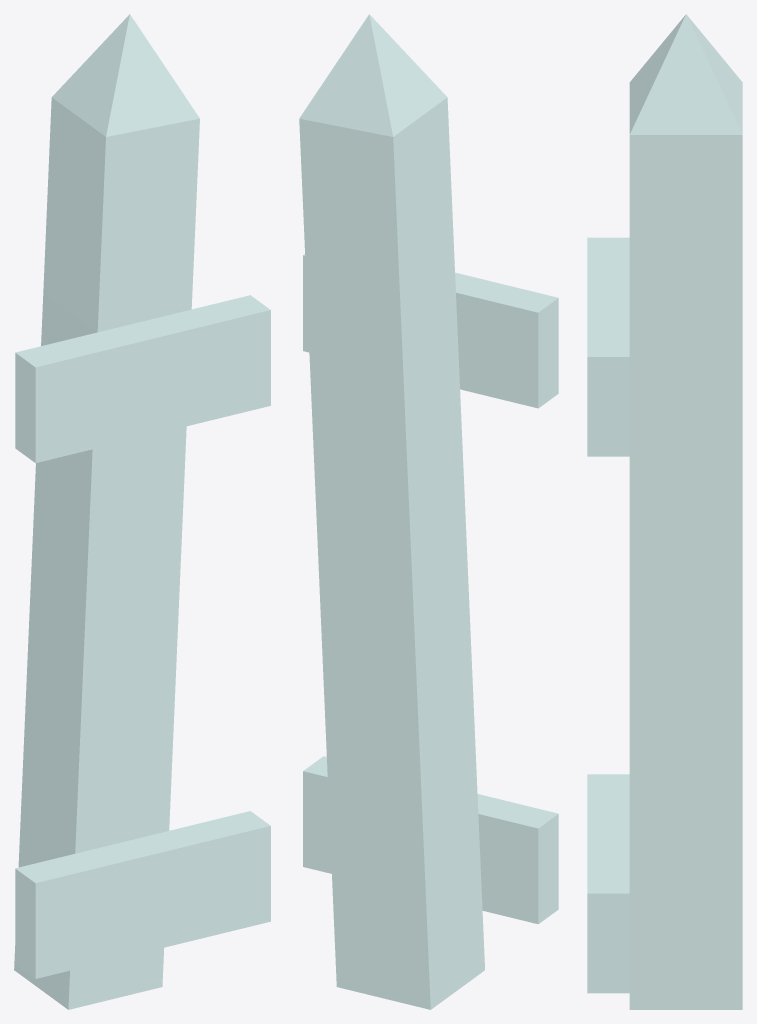
Rendered from tmg-waldo_envir_fence-01_spoke-b.glb.
The picture shows the model from 3 angles, left to right: view 1: azimuth 30°, elevation 25°; view 2: azimuth 150°, elevation 25°; view 3: azimuth 270°, elevation 25°; orthographic projection. The views are drawn at different scales.
Parts seen in each view (by area): view 1: envir_fence-01_spoke-b; view 2: envir_fence-01_spoke-b; view 3: envir_fence-01_spoke-b.
Part boxes in pixels (<box>): envir_fence-01_spoke-b: <box>14,14,270,1009</box>; envir_fence-01_spoke-b: <box>299,14,558,1009</box>; envir_fence-01_spoke-b: <box>587,14,742,1009</box>.
Size of the model in its own units: 0.34 by 1.32 by 0.187.
Materials: 1 (1 with a texture image).
